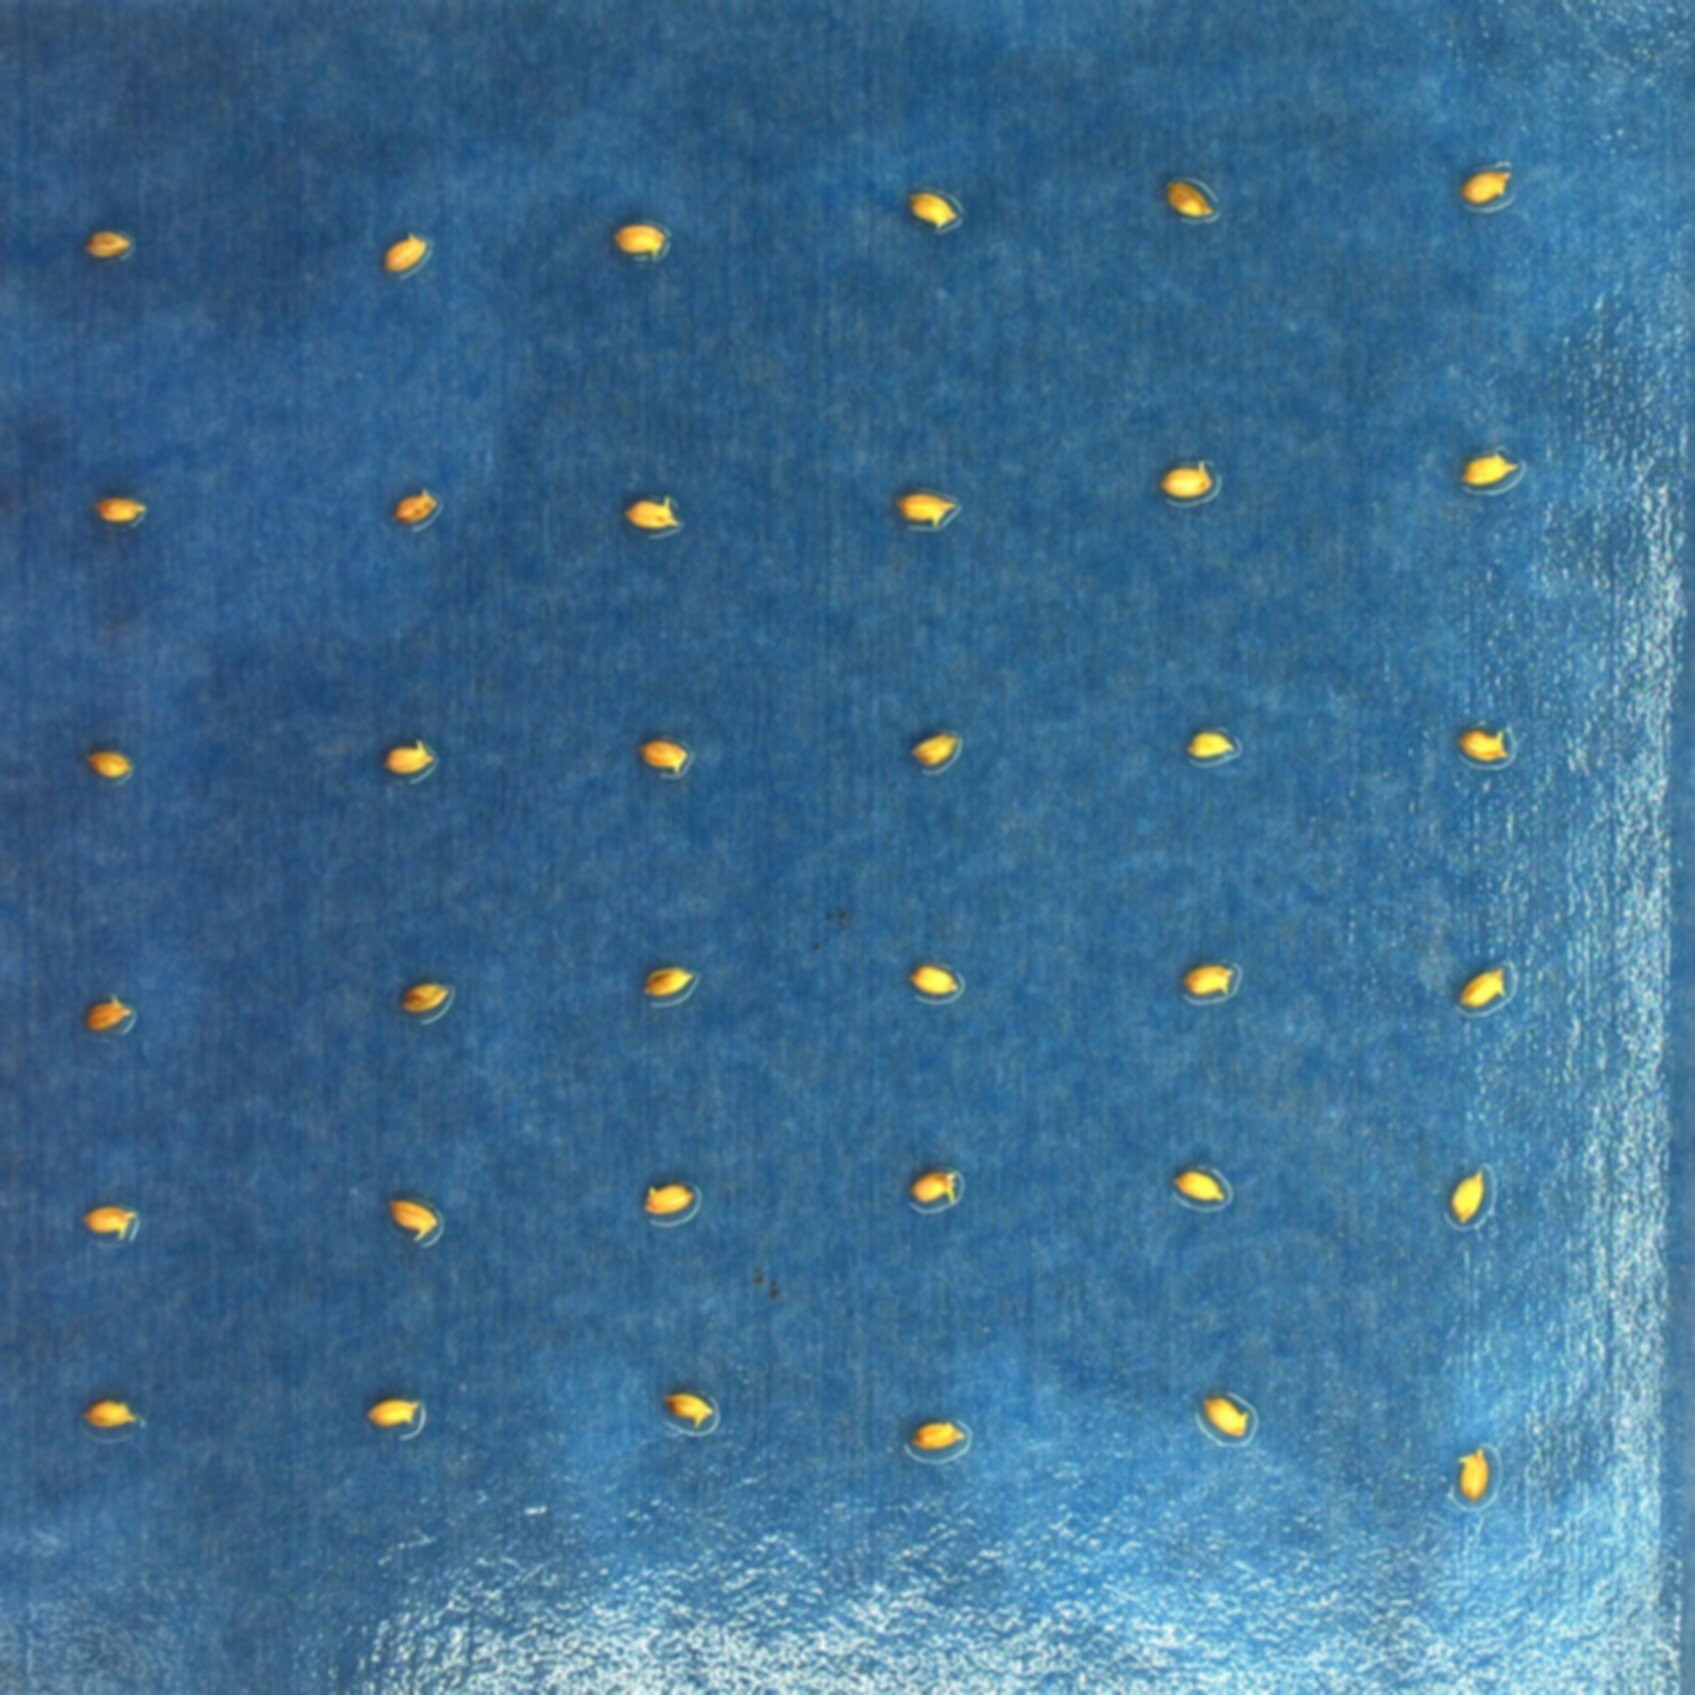not sprout: (1447, 445, 1527, 509), (81, 976, 143, 1052), (1434, 1166, 1501, 1229), (1458, 951, 1516, 1021), (893, 1147, 964, 1205), (619, 486, 702, 536), (893, 478, 973, 528), (640, 1167, 711, 1223), (1450, 1444, 1506, 1512), (1451, 158, 1518, 214), (373, 227, 436, 281), (365, 1383, 424, 1440), (900, 191, 958, 248), (382, 730, 439, 787), (897, 723, 962, 771), (78, 750, 141, 798), (633, 961, 698, 1007), (385, 1194, 445, 1243), (1159, 453, 1220, 503), (1454, 722, 1520, 765), (73, 1205, 140, 1246), (1200, 1395, 1257, 1444), (75, 1385, 140, 1426), (660, 1389, 722, 1433), (911, 951, 964, 1001), (1170, 1161, 1226, 1208), (903, 1409, 962, 1451), (635, 730, 689, 775), (1158, 180, 1209, 225), (1180, 722, 1236, 762), (613, 220, 666, 262), (397, 976, 442, 1023), (81, 227, 130, 269), (96, 490, 144, 529), (393, 487, 438, 528), (1184, 961, 1232, 998)
